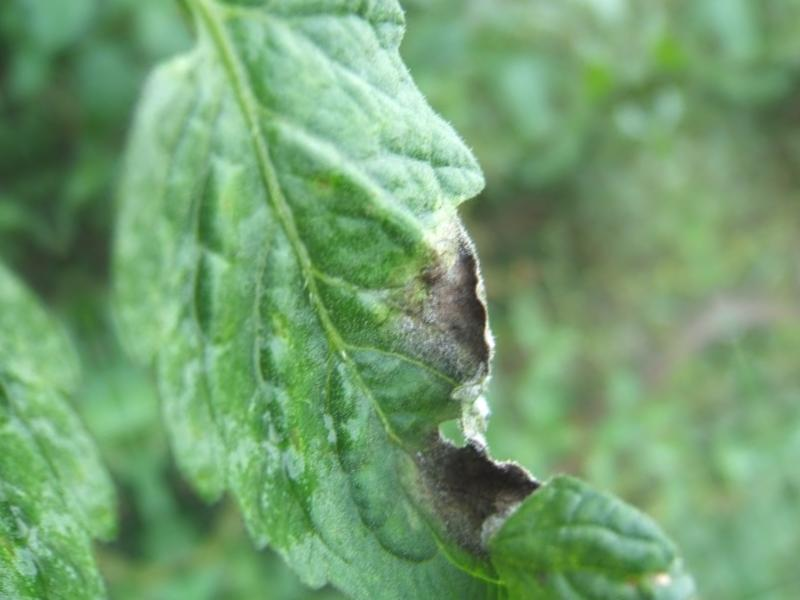Tomato leaf late blight: (23, 0, 703, 600)
